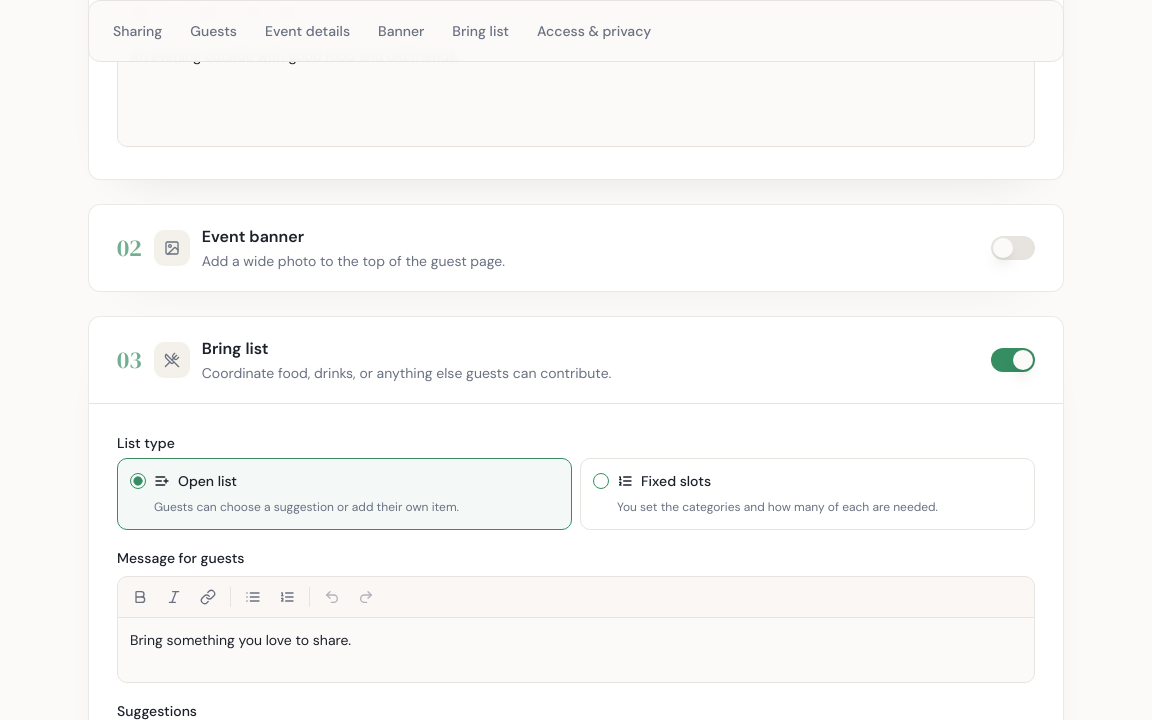
Test: AdminPage › keeps the bring list collapsed while it is switched off
The width and height of the screenshot is (1152, 720).
(page scrolled)
Expected: the text "List type" is shown, [117, 434, 175, 452]
Click the switch named "Enable bring list": x=1013, y=360 [991, 348, 1035, 372]
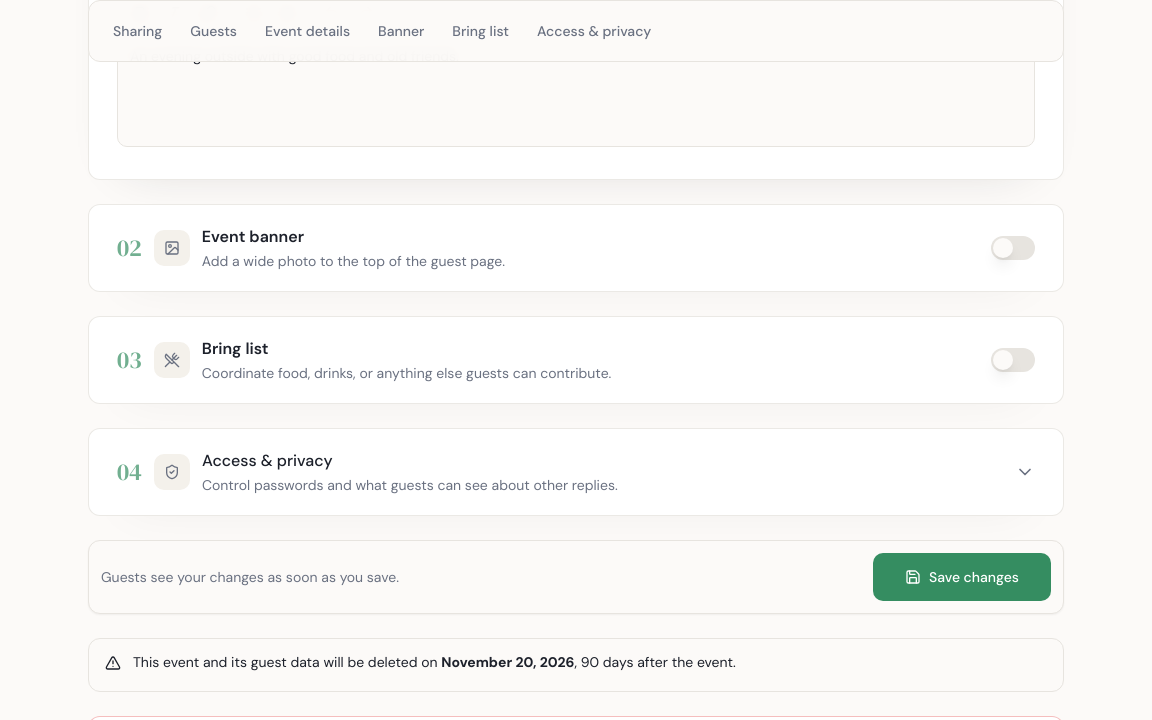
Expected: the text "List type" is gone
